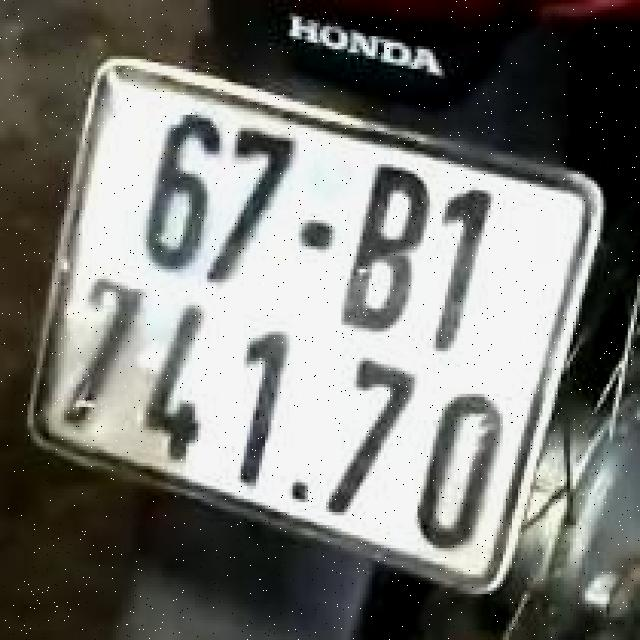0: (403, 378, 511, 566)
1: (414, 180, 503, 369), (216, 316, 304, 499)
4: (133, 290, 226, 472)
6: (134, 103, 232, 287)
7: (313, 350, 425, 530), (198, 122, 303, 304), (55, 266, 154, 443)
B: (330, 157, 442, 353)
